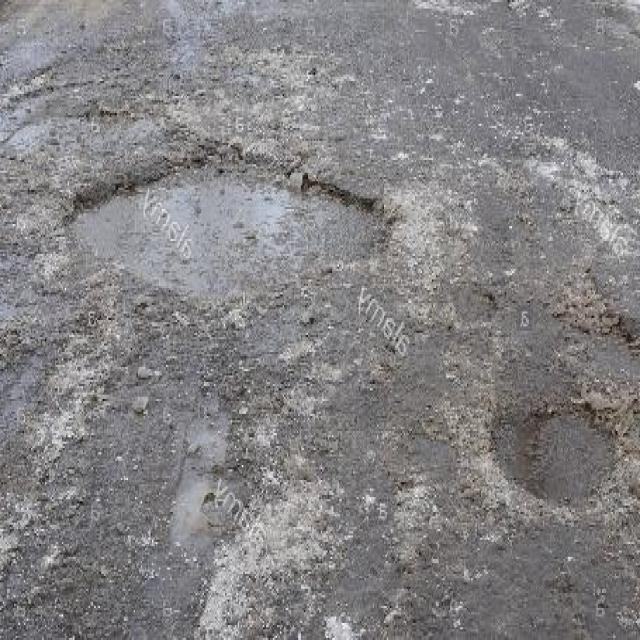Pothole: (62, 136, 404, 309), (492, 396, 626, 509), (161, 402, 257, 549)
